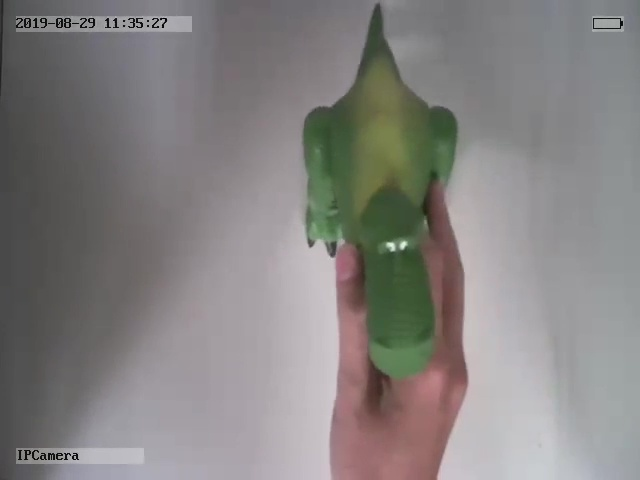rex: (301, 2, 459, 378)
